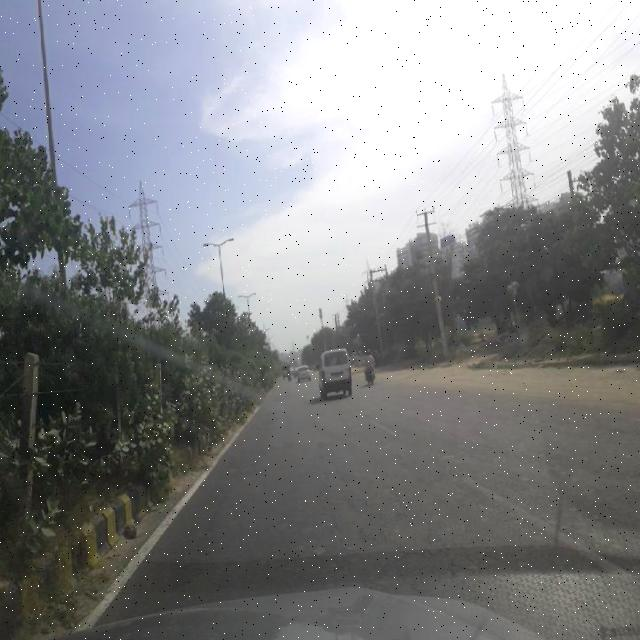D20: (186, 394, 628, 607)
D44: (458, 457, 638, 585), (371, 409, 406, 442)
